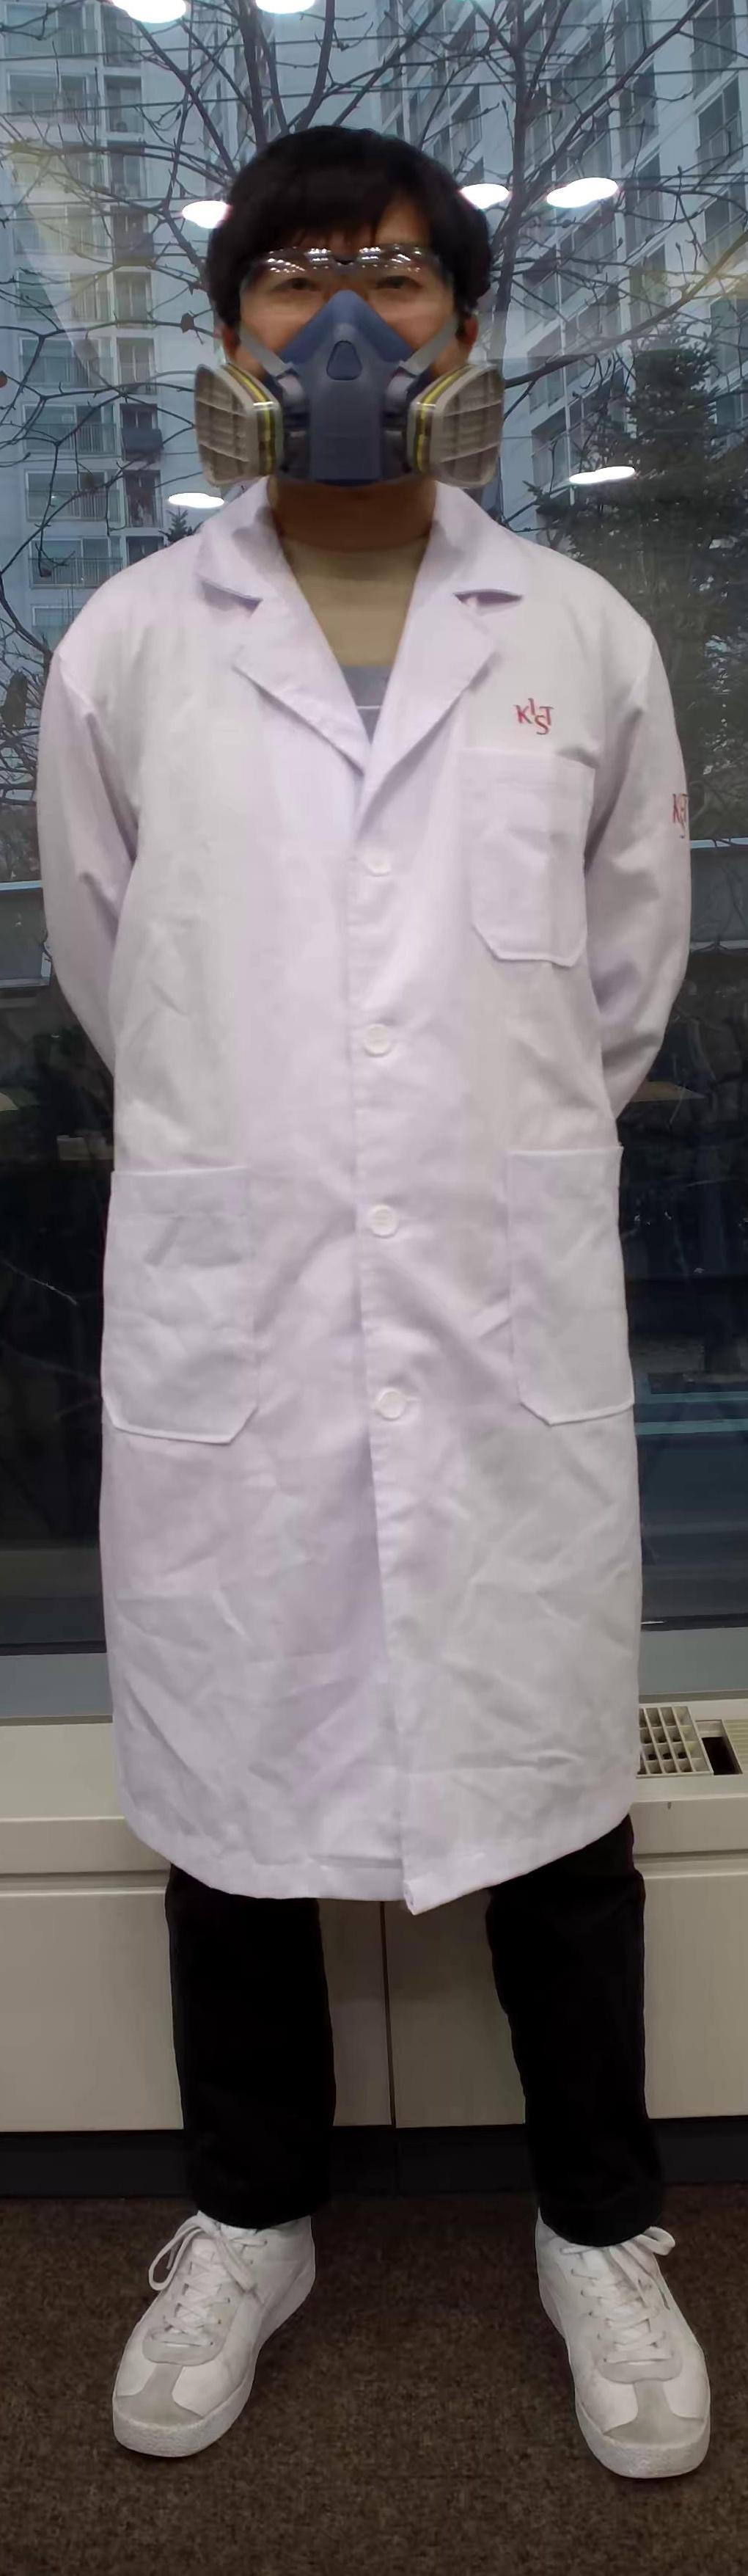lab_coat: (16, 529, 712, 1897)
